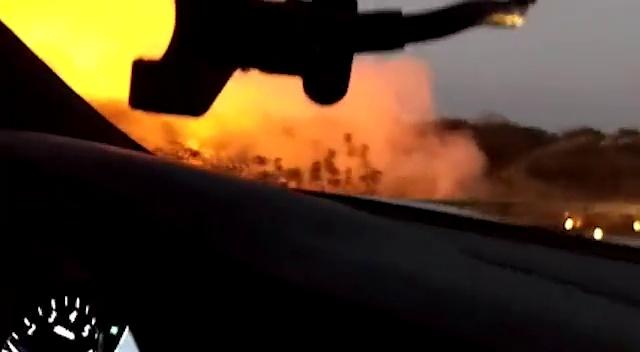smoke: (356, 70, 431, 162), (233, 81, 296, 145)
